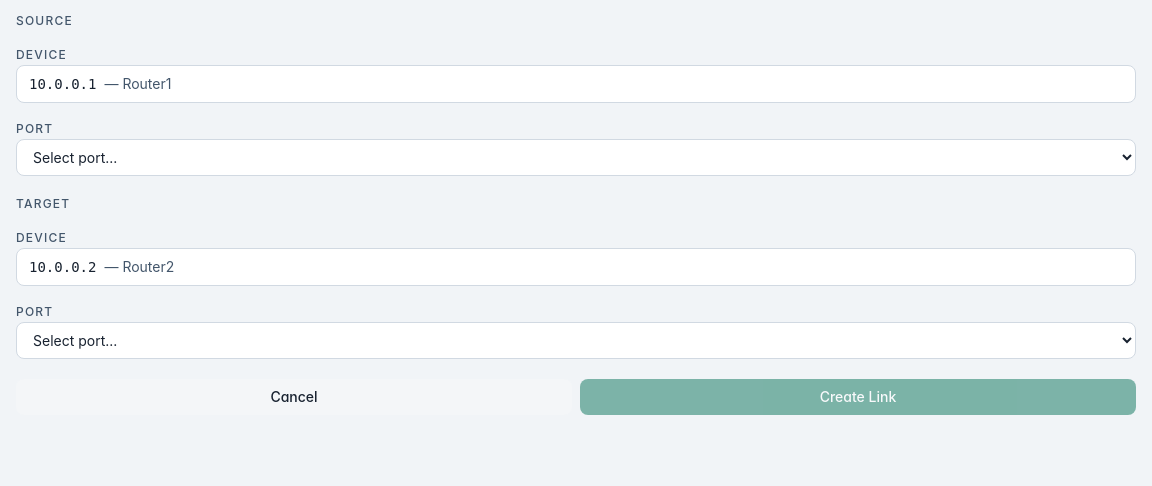
LinkCreatePanel — handleSubmit catch handles typed errors › shows ServerError ref message when createLink throws ServerError
Select "ether1 1G up" in the dropdown below "Source" at (576, 158), box [16,139,1136,176]
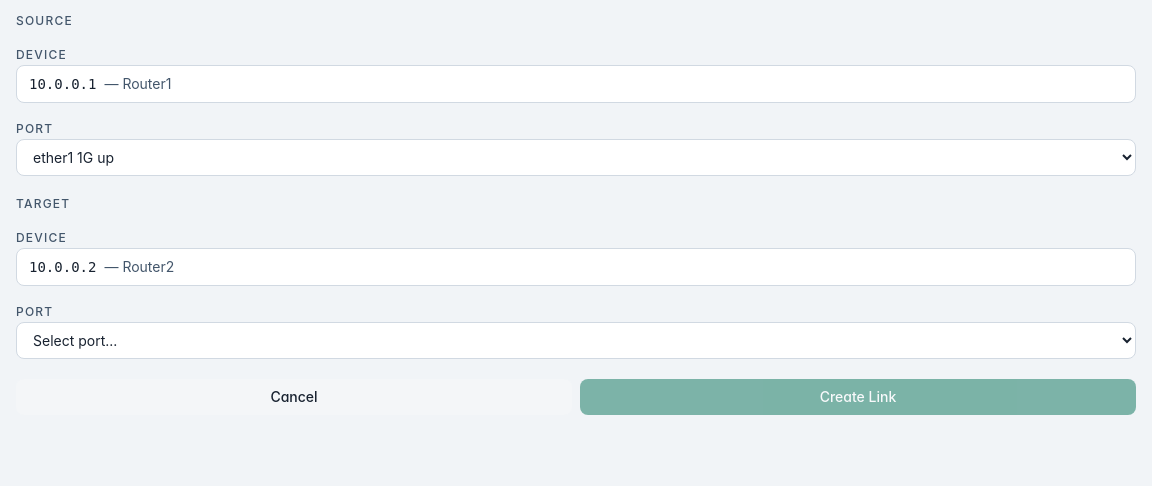
Select "ether1 1G up" in the dropdown below "Target" at (576, 340), box [16,322,1136,359]
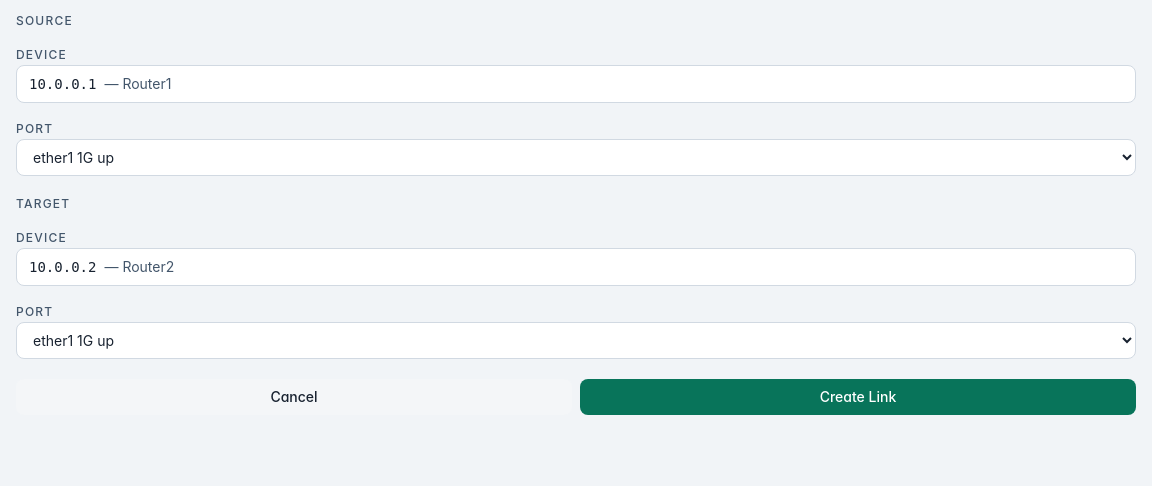
Click the button "Create Link".
click(858, 397)  # box [580,379,1136,415]
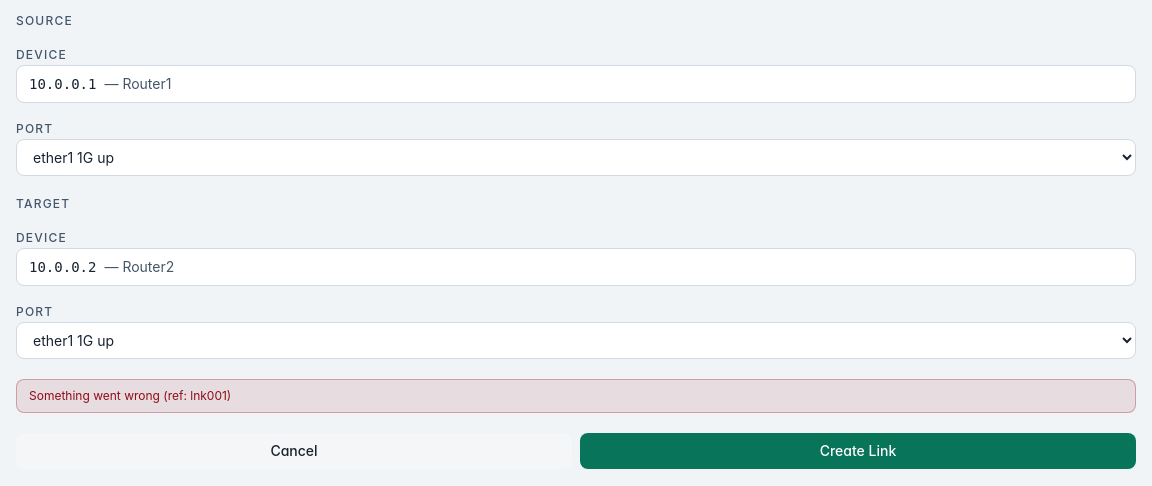
Result: the text "Something went wrong (ref: lnk001)" is shown at [16,379,1136,413]
